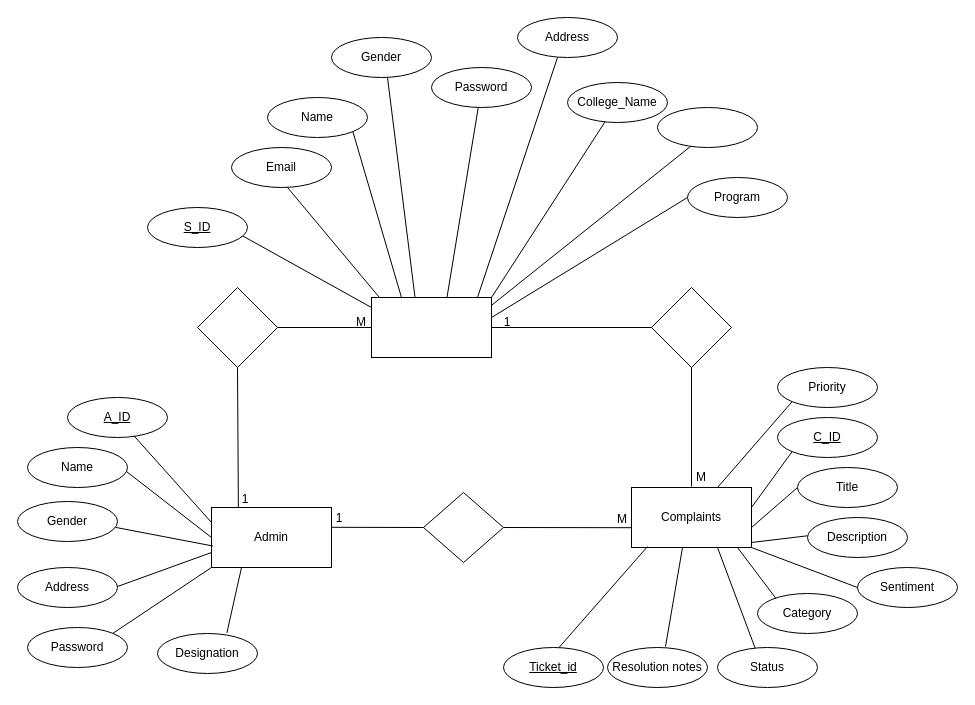
Image size: 975x705. Some labels were removed from this diagram. Each missing label, with the centre of its shape:
handles: [463,527]
manages: [237,327]
Student: [431,327]
submits: [691,327]
University_Name: [707,127]
